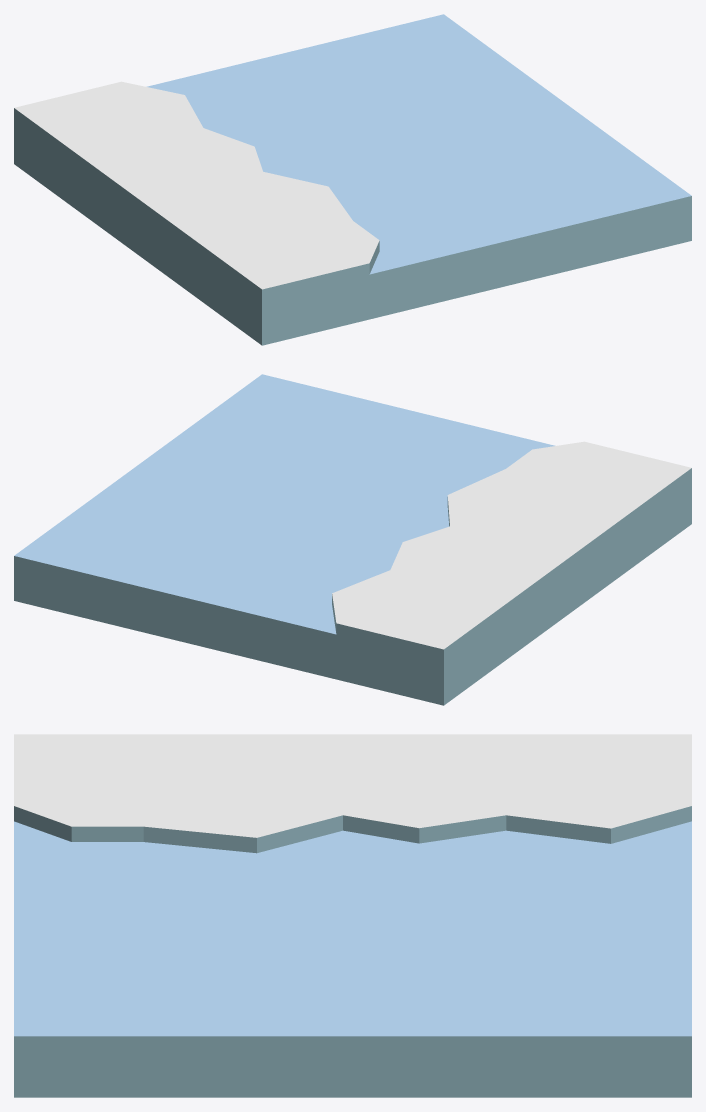
The model's file is Terrain_Tile_Ice_Snow_Water_Bank_02.fbx.
3 views of the same model, one above another, from view 1: azimuth 30°, elevation 25°; view 2: azimuth 150°, elevation 25°; view 3: azimuth 270°, elevation 25° (orthographic). The views are drawn at different scales.
Visible parts, largest first — view 1: Terrain_Tile_Ice_Snow_Water_Bank_02; view 2: Terrain_Tile_Ice_Snow_Water_Bank_02; view 3: Terrain_Tile_Ice_Snow_Water_Bank_02.
Boxes of the visible parts, bbox=[...] form: Terrain_Tile_Ice_Snow_Water_Bank_02: bbox=[14, 14, 691, 345]; Terrain_Tile_Ice_Snow_Water_Bank_02: bbox=[14, 374, 691, 705]; Terrain_Tile_Ice_Snow_Water_Bank_02: bbox=[14, 734, 691, 1097].
Bounding box in the file's own units: 126 × 15.75 × 126.
